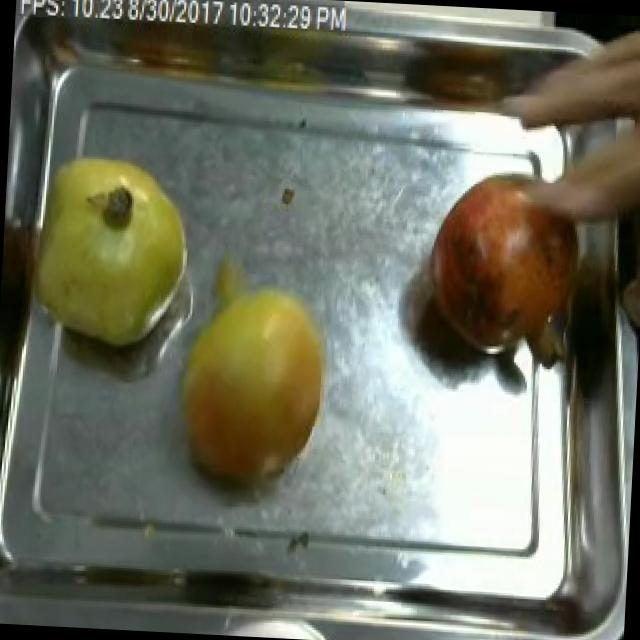fruit: (18, 140, 207, 364), (412, 156, 596, 381)
